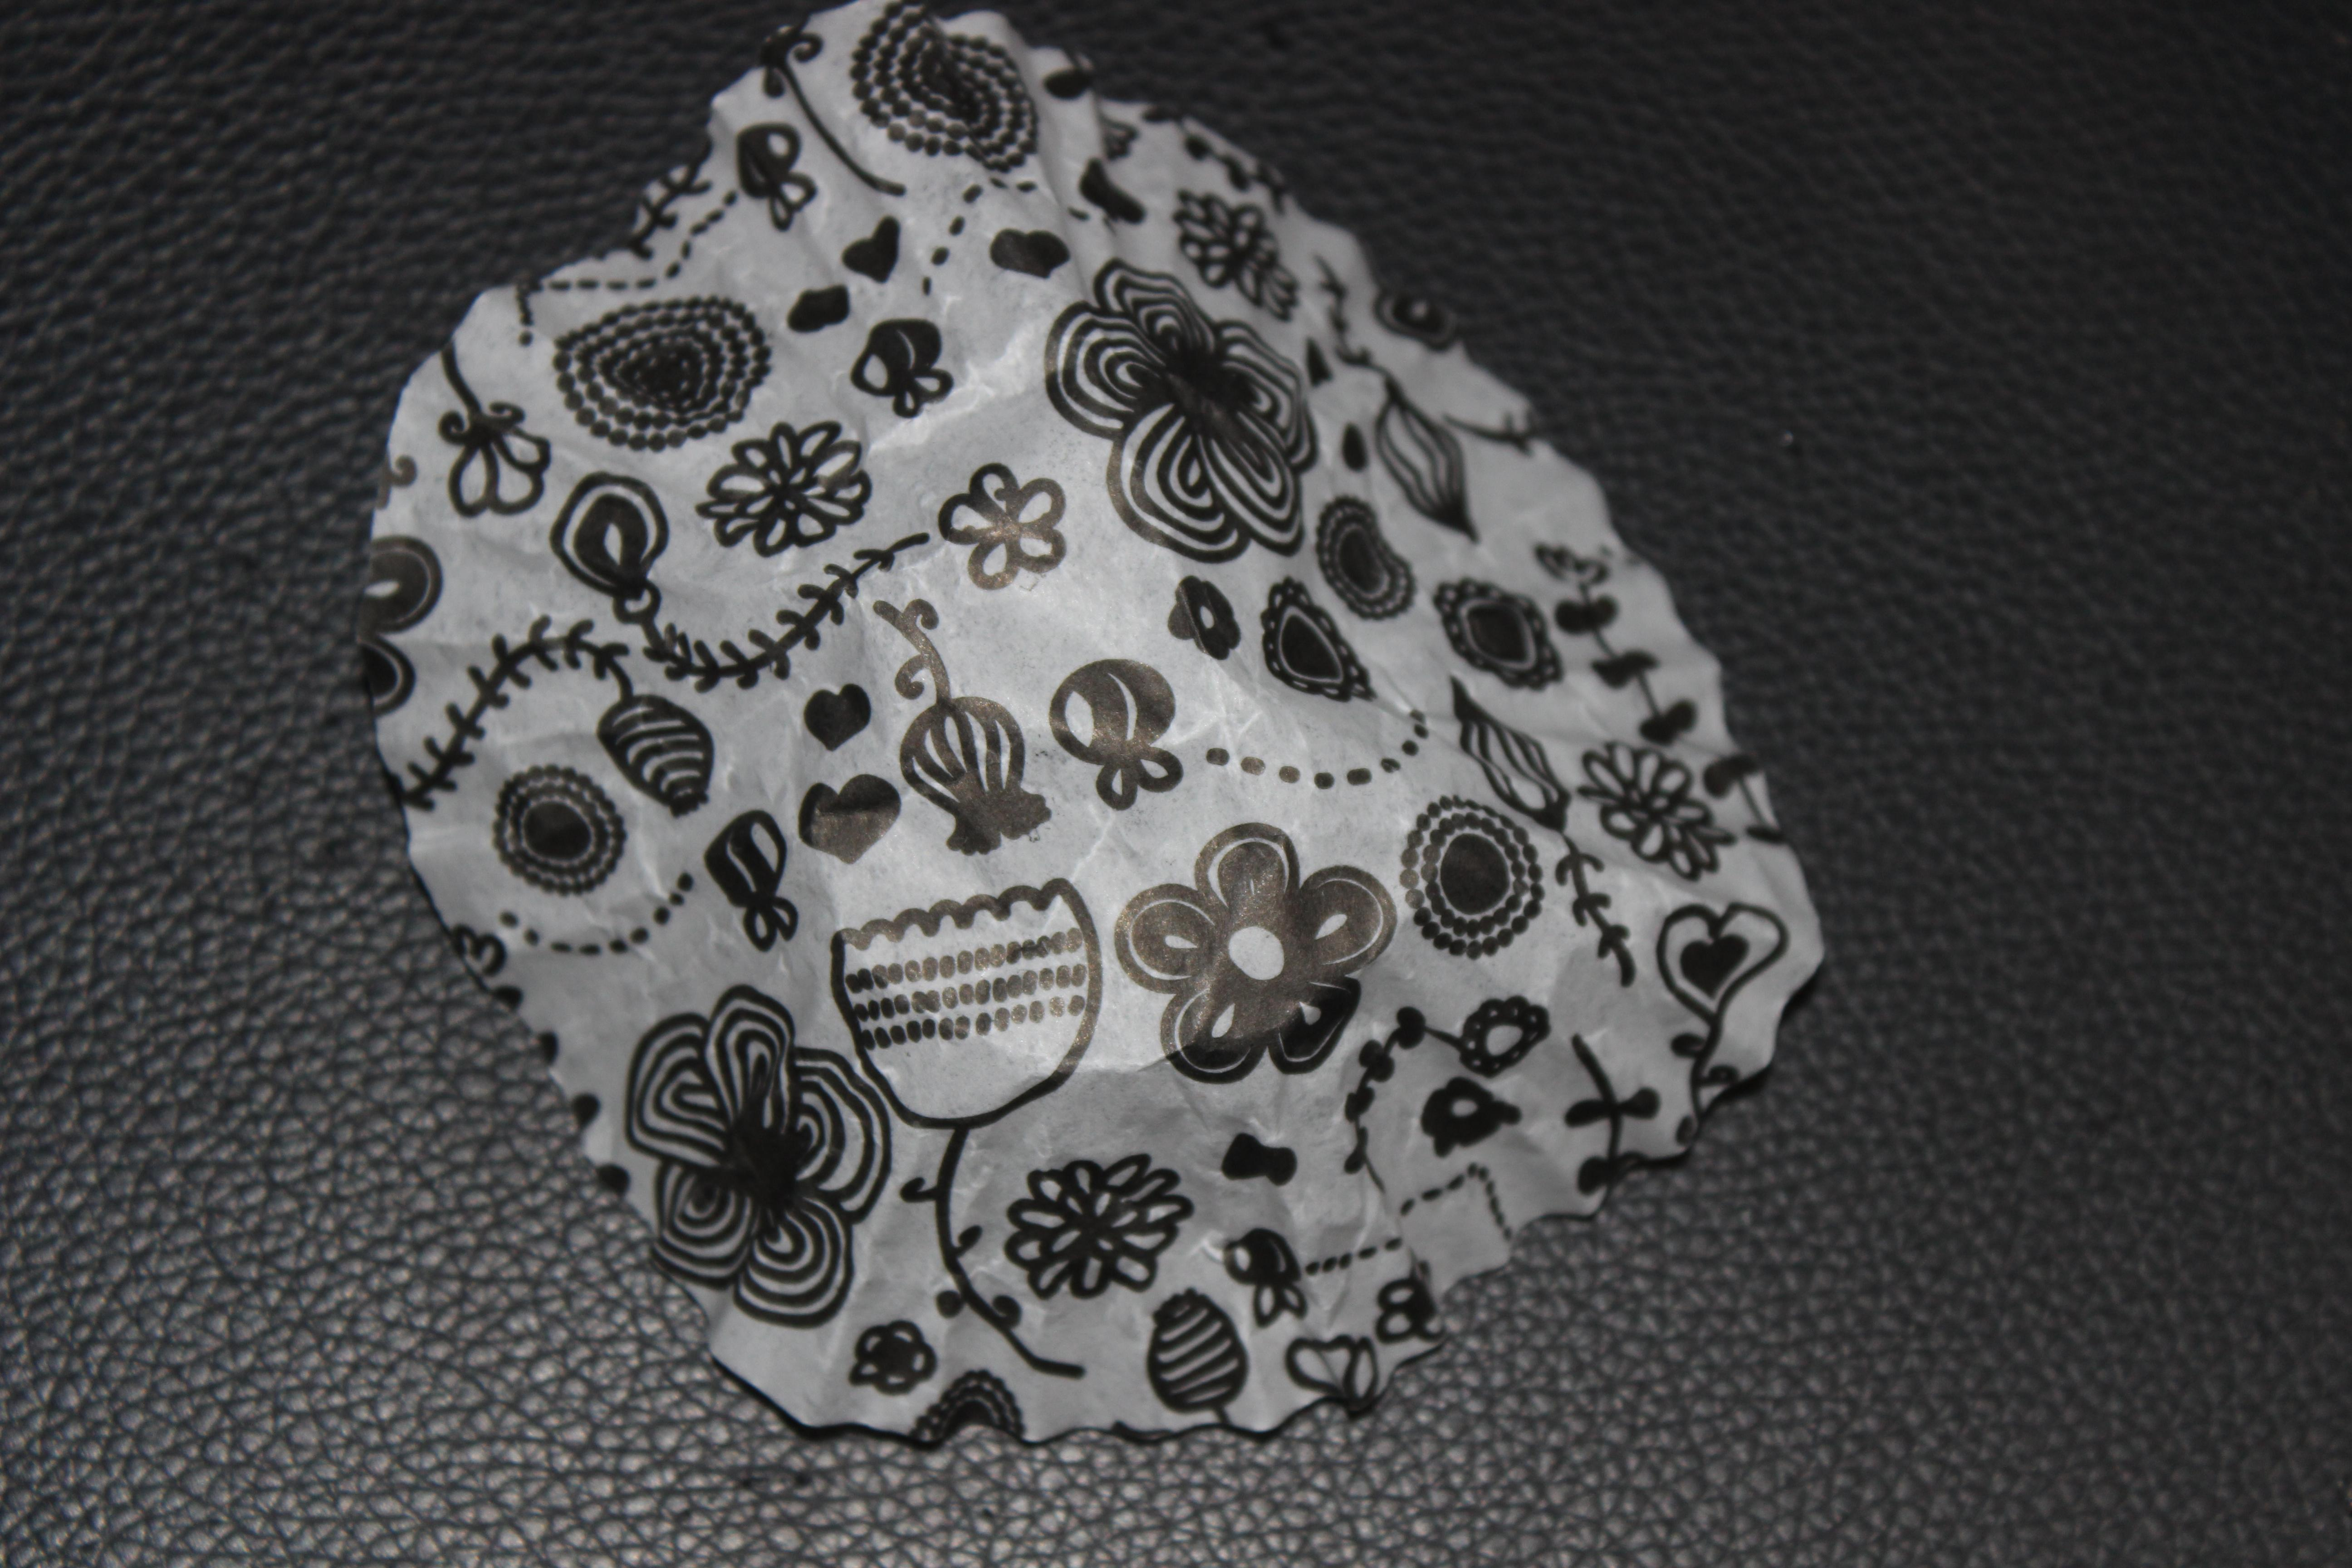cupcakePaper: (334, 3, 1850, 1475)
